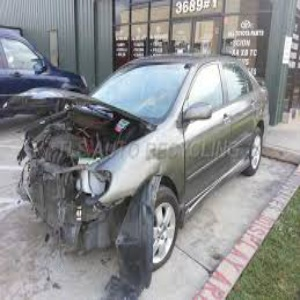bonnet: (13, 86, 129, 141)
bumper: (19, 164, 103, 242)
